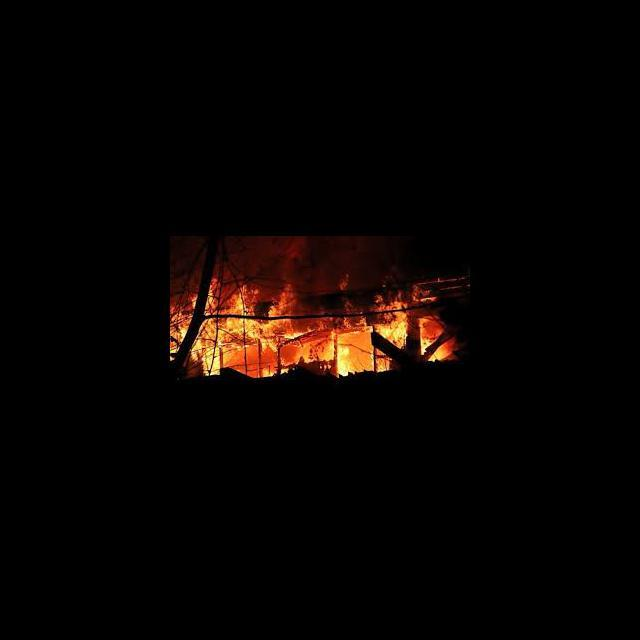Fire: (171, 273, 467, 384)
Smoke: (170, 240, 397, 282)
